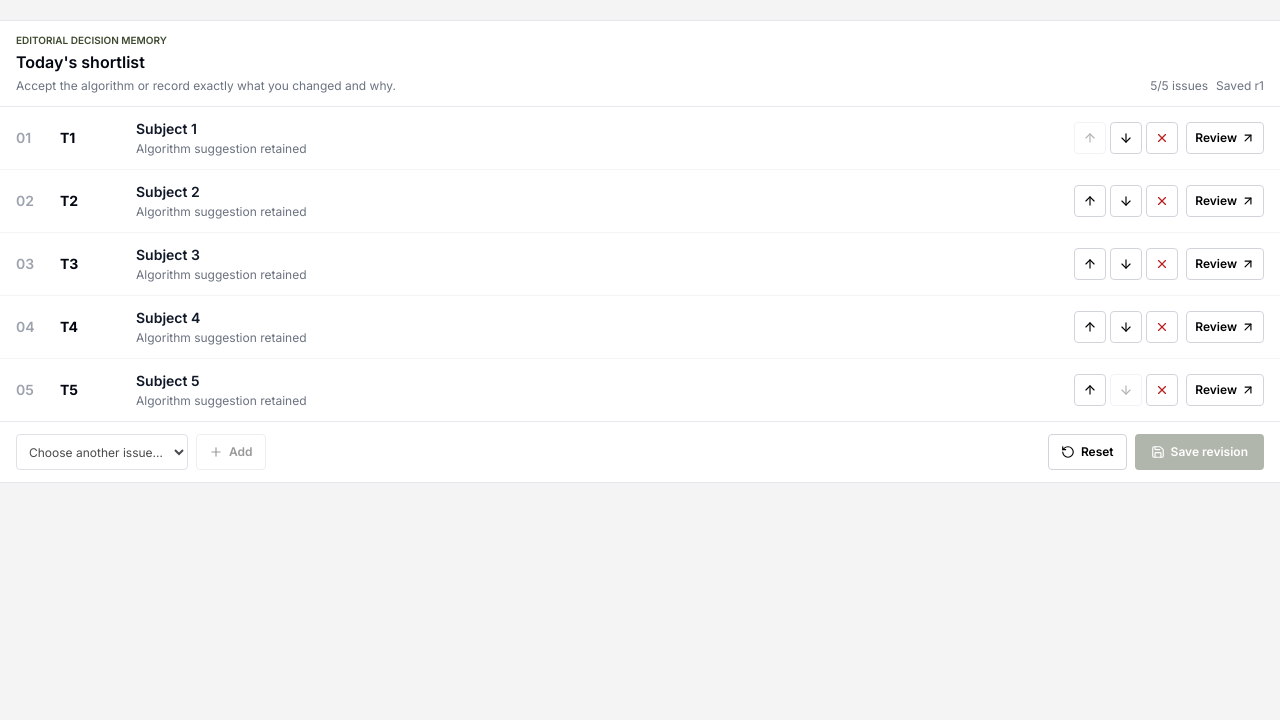
Test: NewsletterEditorialShortlist › resumes bounded head polling after a full conflict is reloaded
Expected: the text "Saved r1" is shown, top-left (1216, 78), bottom-right (1264, 94)
Click the button named "Remove T5". click: (1162, 390)
box: top-left (1146, 374), bottom-right (1178, 406)
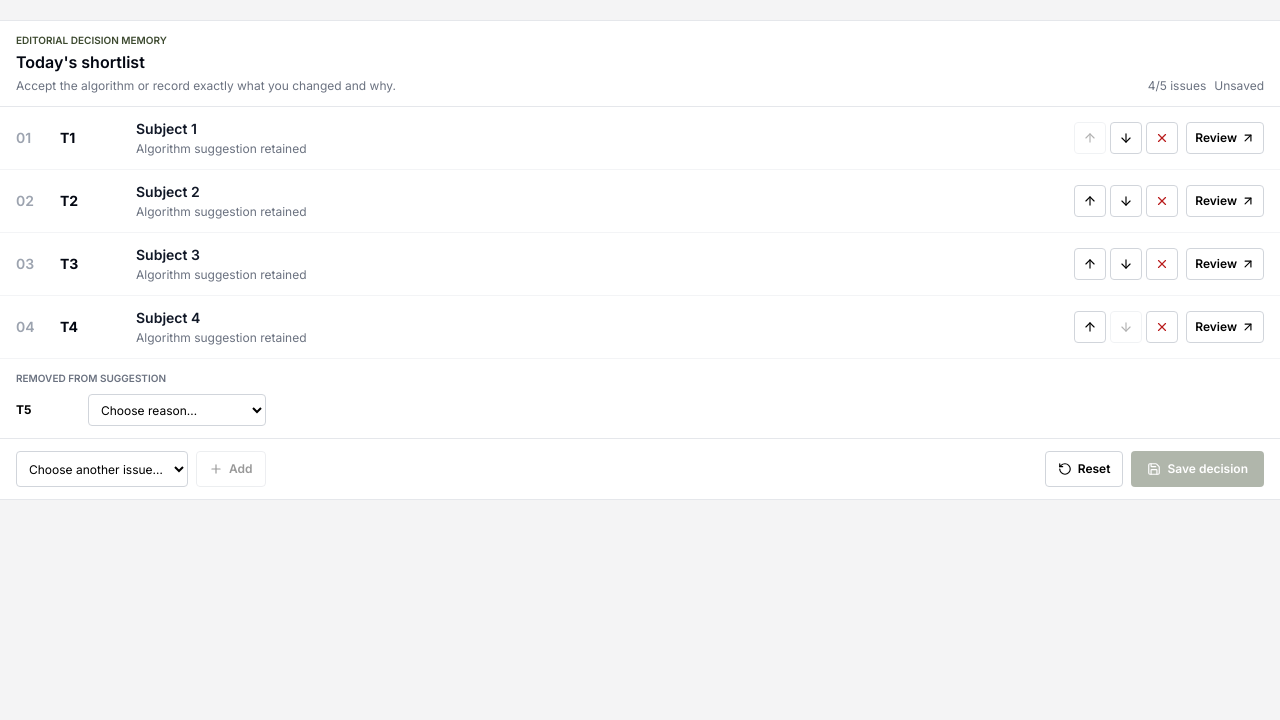
Select "Weak evidence" in the dropdown named "Reason for removing T5". click: (177, 410)
box: top-left (88, 394), bottom-right (266, 426)
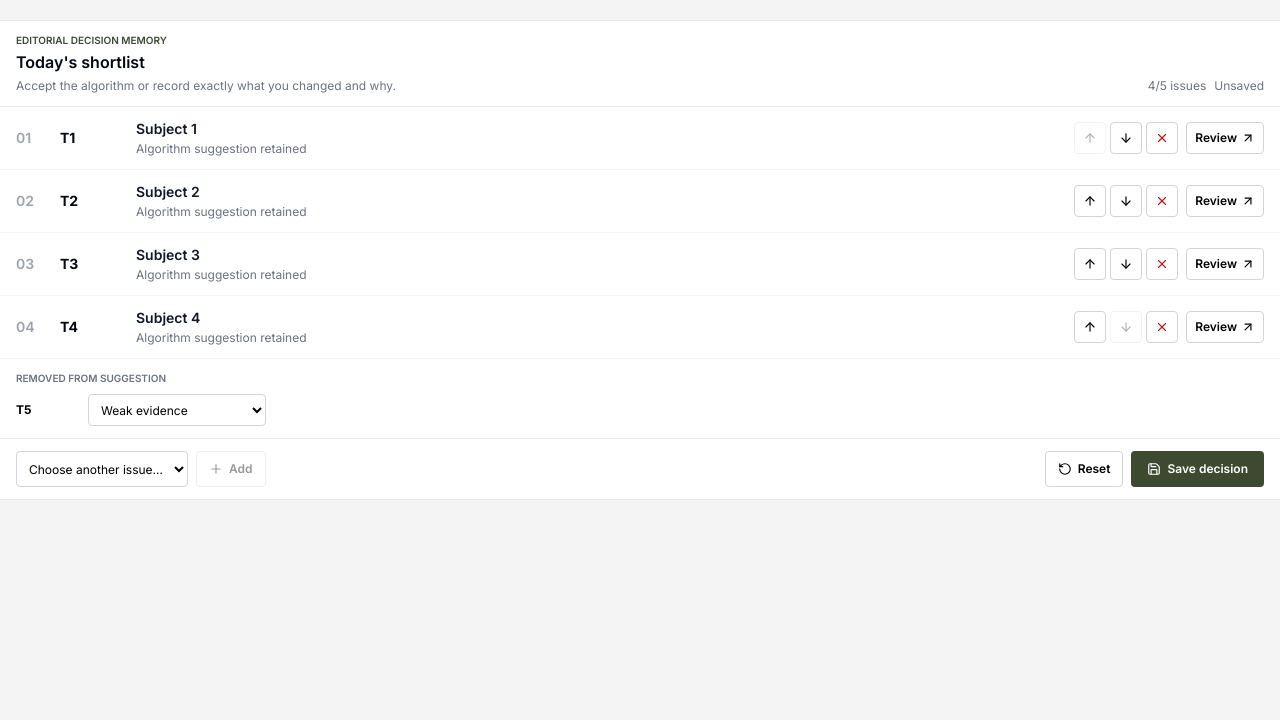
Click the button "Save decision". click: (1198, 469)
box: top-left (1132, 451), bottom-right (1264, 487)
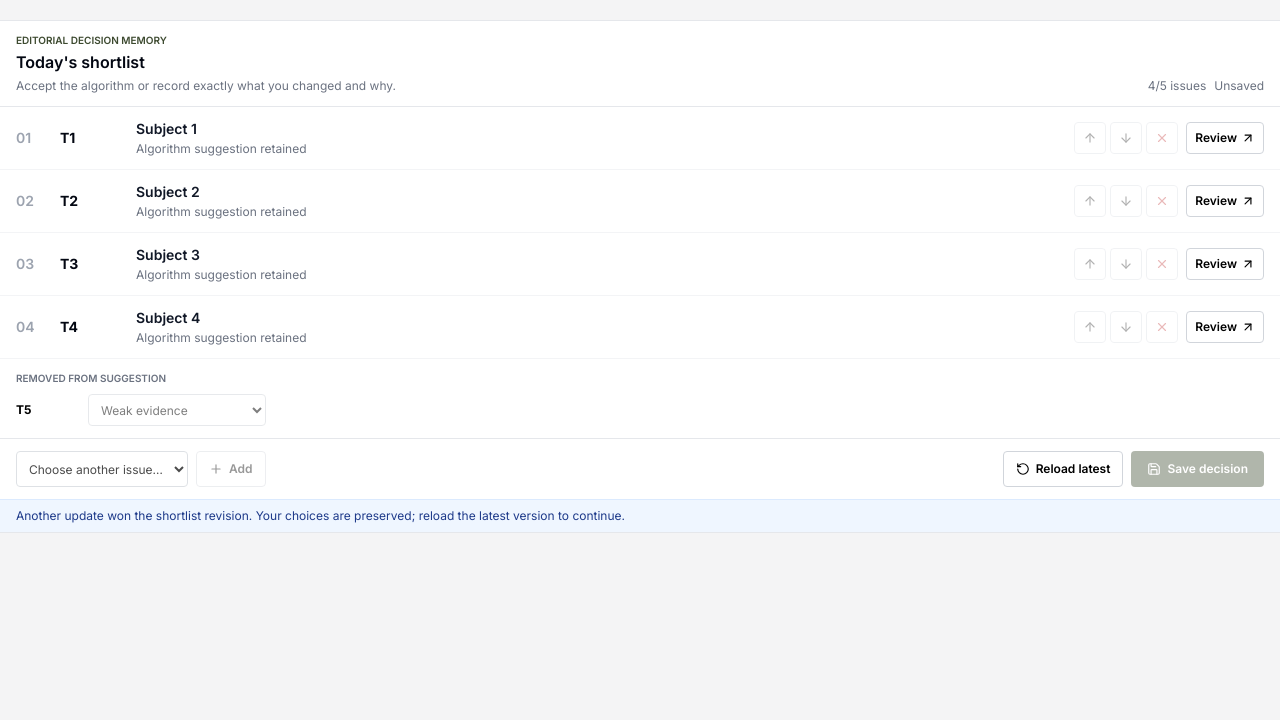
Expected: the text "Another update won the shortlist revision" is shown, top-left (16, 508), bottom-right (625, 523)
Click the button "Reload latest". click: (1063, 469)
box: top-left (1003, 451), bottom-right (1123, 487)
Wait 60000 ms
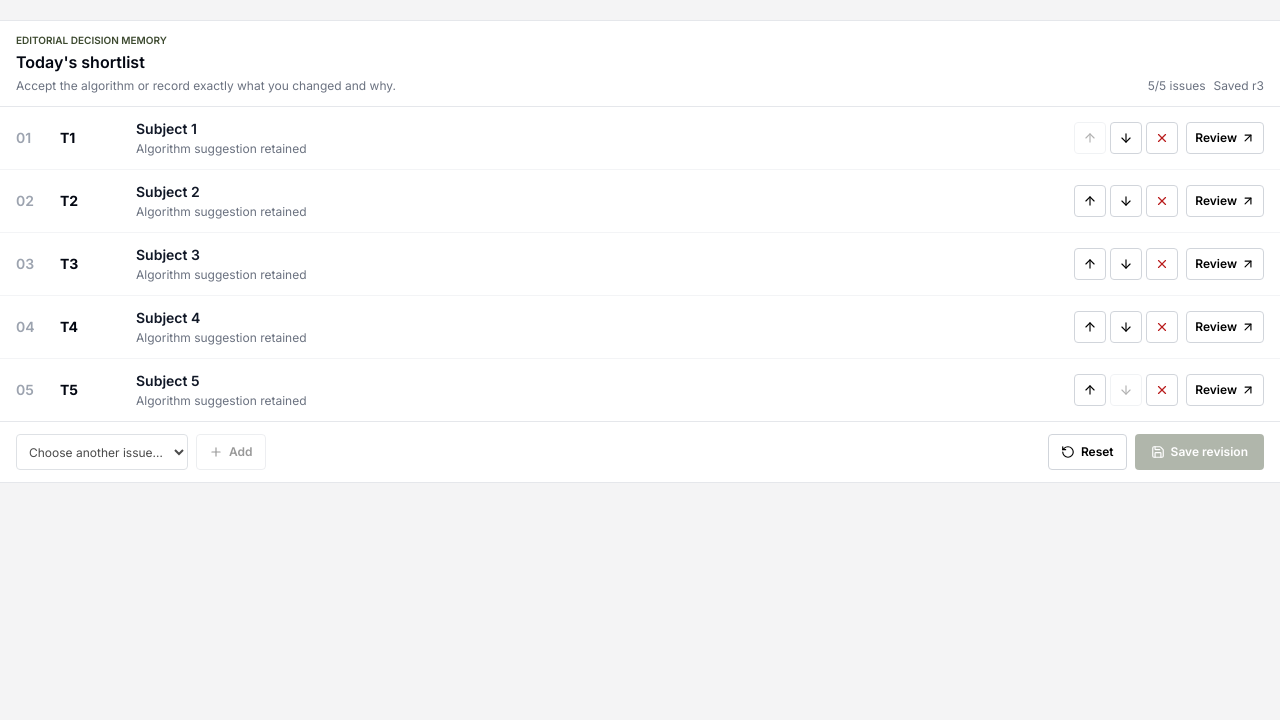
Expected: the text "Saved r3" is shown, top-left (1214, 78), bottom-right (1264, 94)
